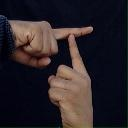hand: (0, 20, 94, 69), (47, 33, 93, 127)
